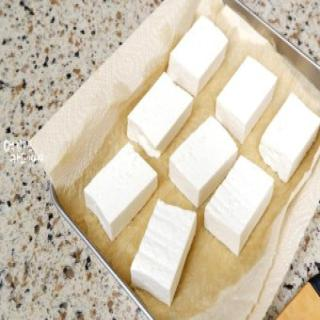Tahu: (84, 17, 227, 241), (168, 56, 279, 257), (130, 200, 198, 306), (257, 93, 320, 184)
